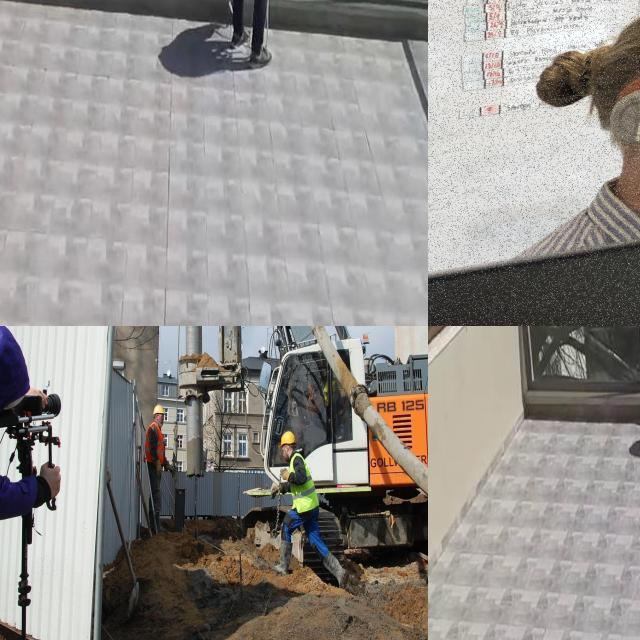boots: (322, 550, 353, 593), (271, 539, 292, 576)
hand_glove: (153, 458, 166, 480), (166, 457, 179, 476)
hand_noglove: (39, 458, 66, 506), (30, 385, 50, 411), (281, 465, 288, 483)
head_helmet: (278, 431, 298, 448), (152, 404, 166, 416)
person: (278, 431, 348, 588), (0, 326, 24, 640), (142, 400, 166, 534)
vest: (292, 458, 316, 515), (149, 422, 165, 460)
